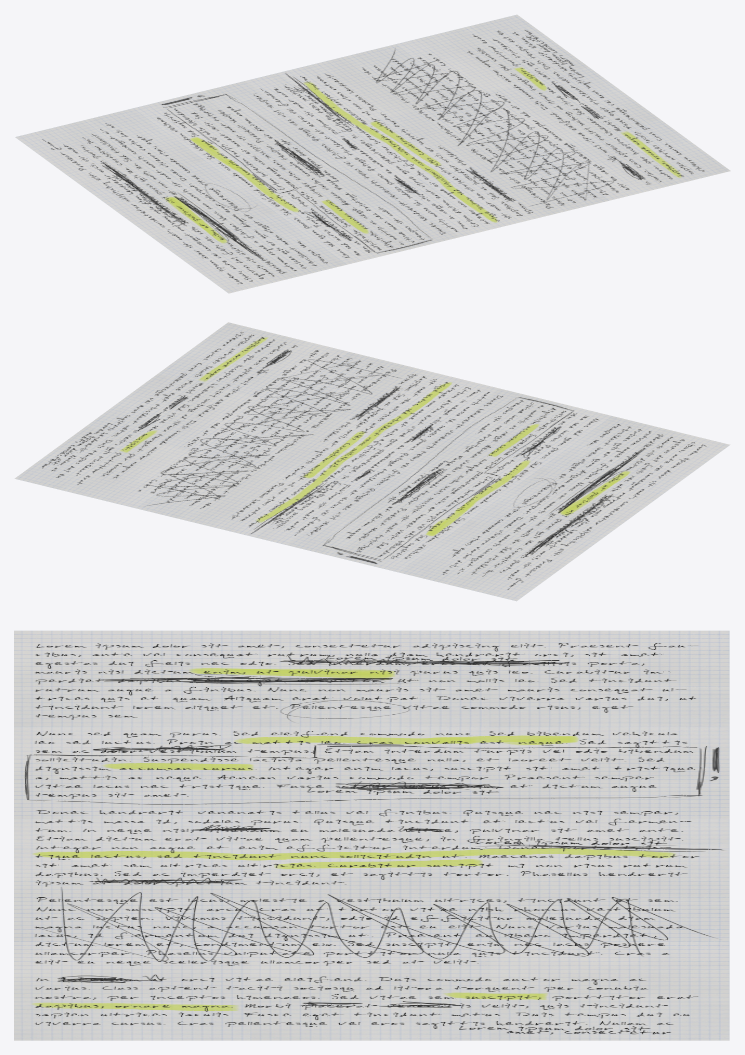
The model's file is Flat paper.fbx.
3 views of the same model, one above another, from view 1: azimuth 30°, elevation 25°; view 2: azimuth 150°, elevation 25°; view 3: azimuth 270°, elevation 25° (orthographic). The views are drawn at different scales.
Visible parts, largest first — view 1: Plane; view 2: Plane; view 3: Plane.
Boxes of the visible parts, x1,y1,x2,y2 form: Plane: (15,14,730,293); Plane: (14,322,730,601); Plane: (14,630,729,1040).
Size of the model in its own units: 252 by 3.03e-05 by 186.
